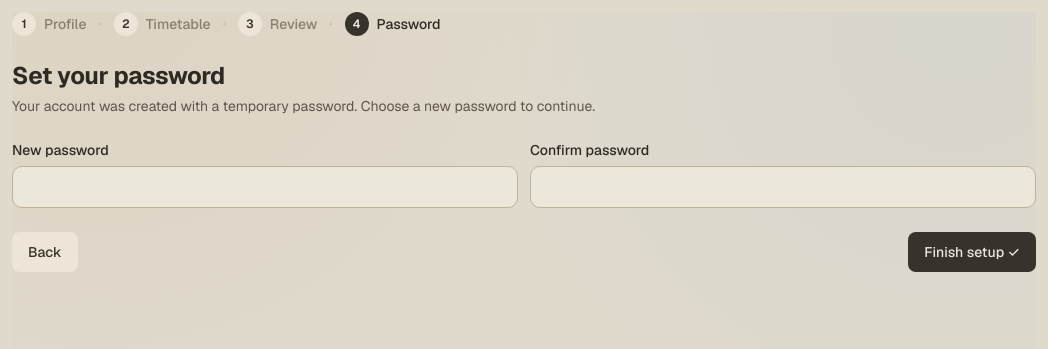
it: PasswordStep › rejects mismatched passwords
The width and height of the screenshot is (1048, 349).
Type "longenough1" into the password field labelled "New password" at point(265, 187), box [12,166,518,208]
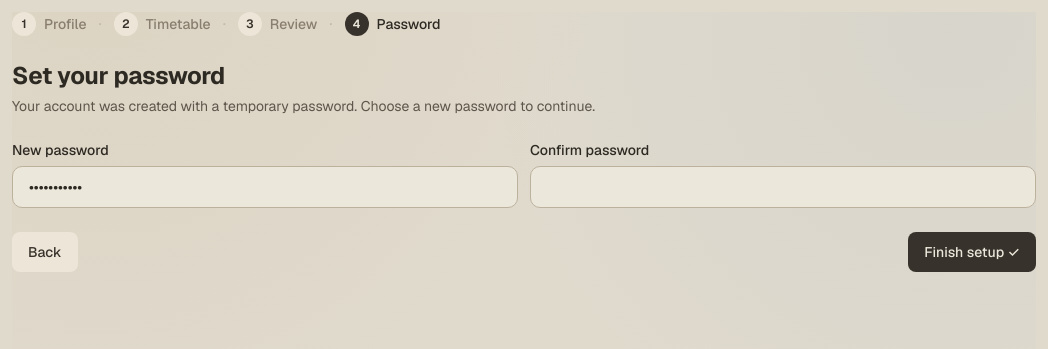
Type "longenough2" into the password field labelled "Confirm password" at point(783, 187), box [530,166,1036,208]
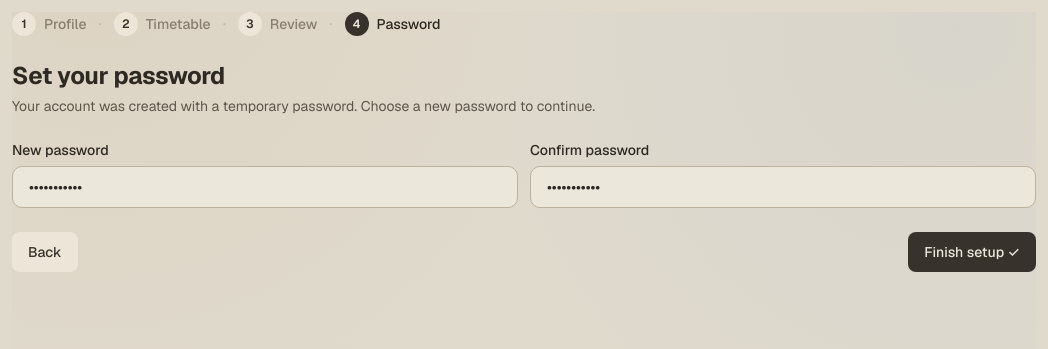
Click the button "Finish setup ✓" at point(972, 252), box [908,232,1036,272]
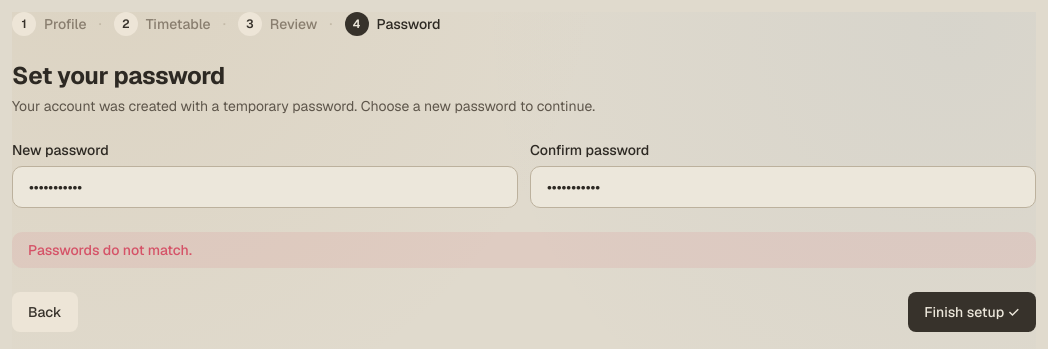
Expected: the text "Passwords do not match." is shown, [12,232,1036,268]
